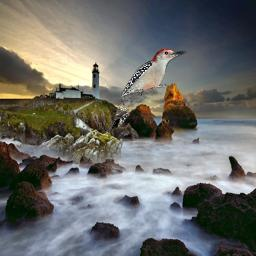Woodpecker: (111, 48, 187, 130)
